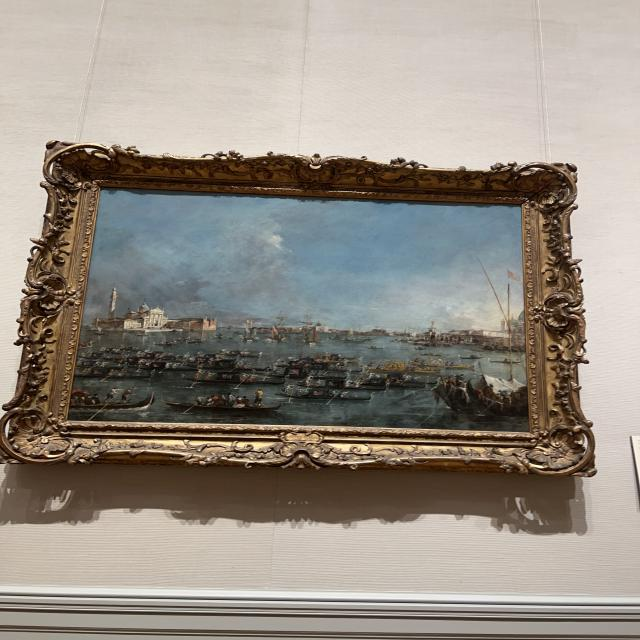ships: (68, 187, 531, 433)
